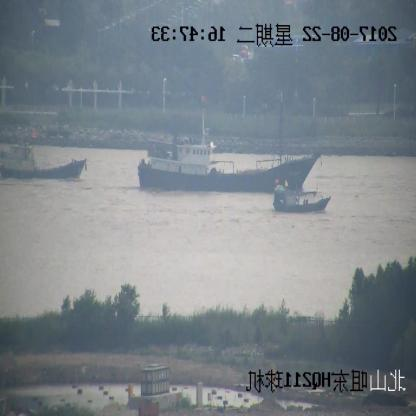Fishing Boat: (138, 88, 320, 189), (0, 131, 86, 179), (274, 180, 330, 213)
